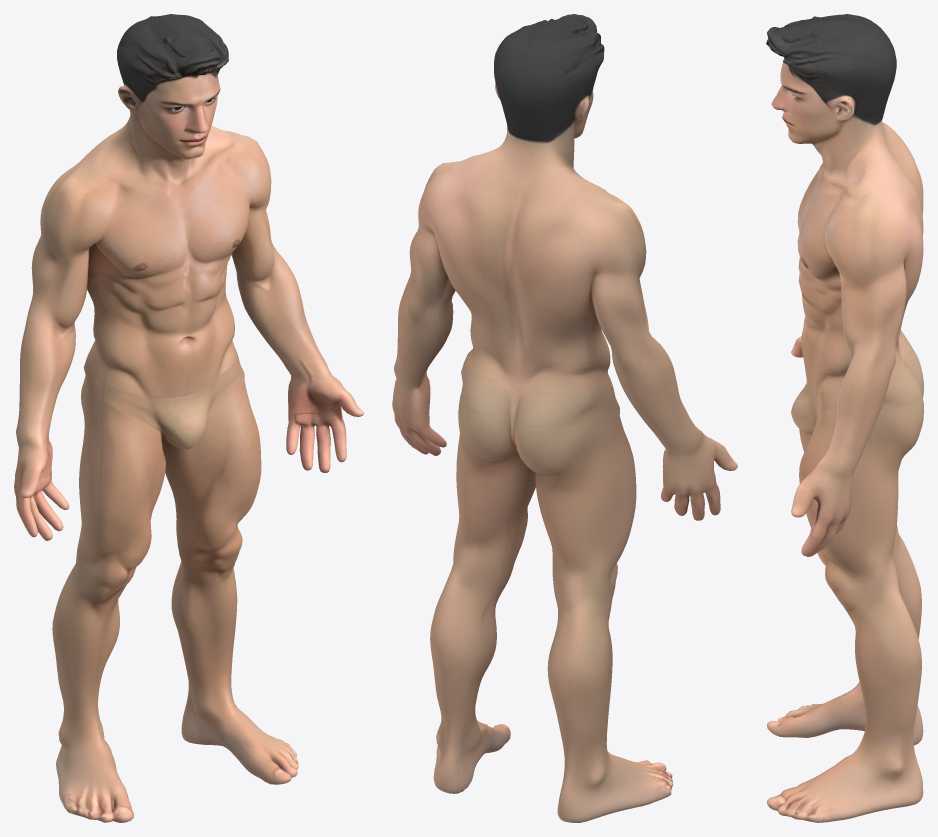
Rendered from rodin-lean.glb.
3 views of the same model, side by side, from view 1: azimuth 30°, elevation 25°; view 2: azimuth 150°, elevation 25°; view 3: azimuth 270°, elevation 25° (orthographic).
Parts seen in each view (by area): view 1: model; view 2: model; view 3: model.
Boxes of the visible parts, left/top/right/bottom form: model: left=14, top=14, right=363, bottom=822; model: left=392, top=14, right=737, bottom=822; model: left=766, top=14, right=923, bottom=822.
Size of the model in its own units: 0.8475 by 1.8 by 0.3431.
1 material, 1 textured.
